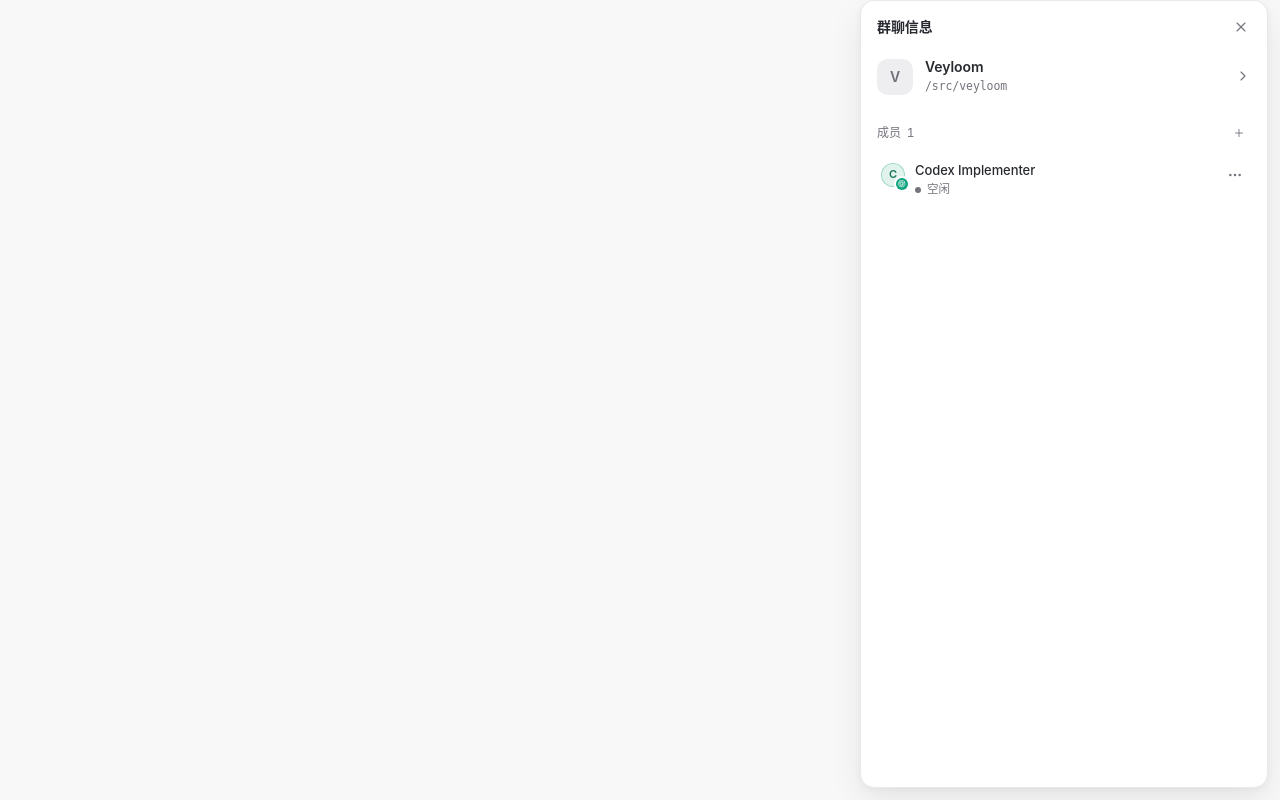
it: MembersPanel › takes a member out of the project once confirmed
What coordinates should you click on to do the following:
click the button named "更多"
I would click on:
 (1235, 175)
Its box is left=1219, top=159, right=1251, bottom=191.
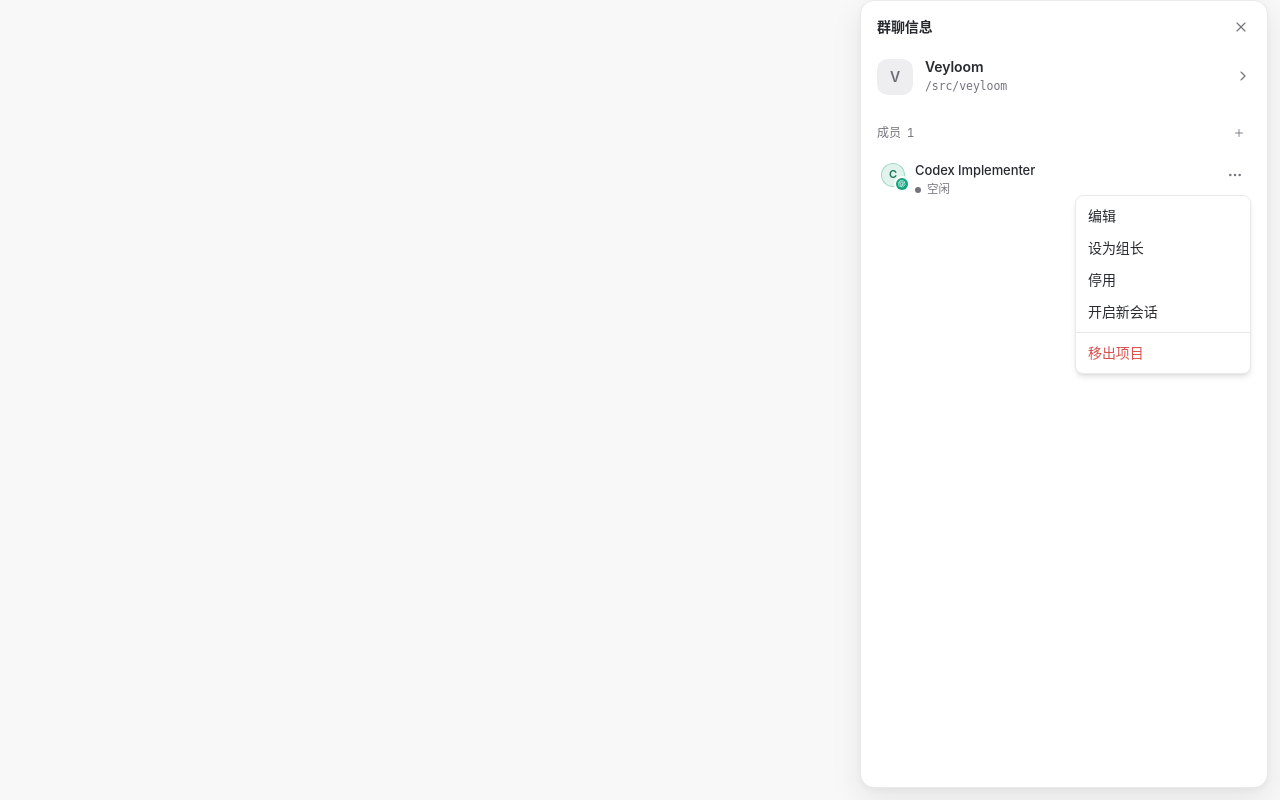
What coordinates should you click on to do the following:
click the menu item "移出项目"
I would click on:
 (1116, 352)
Its box is left=1088, top=344, right=1144, bottom=361.
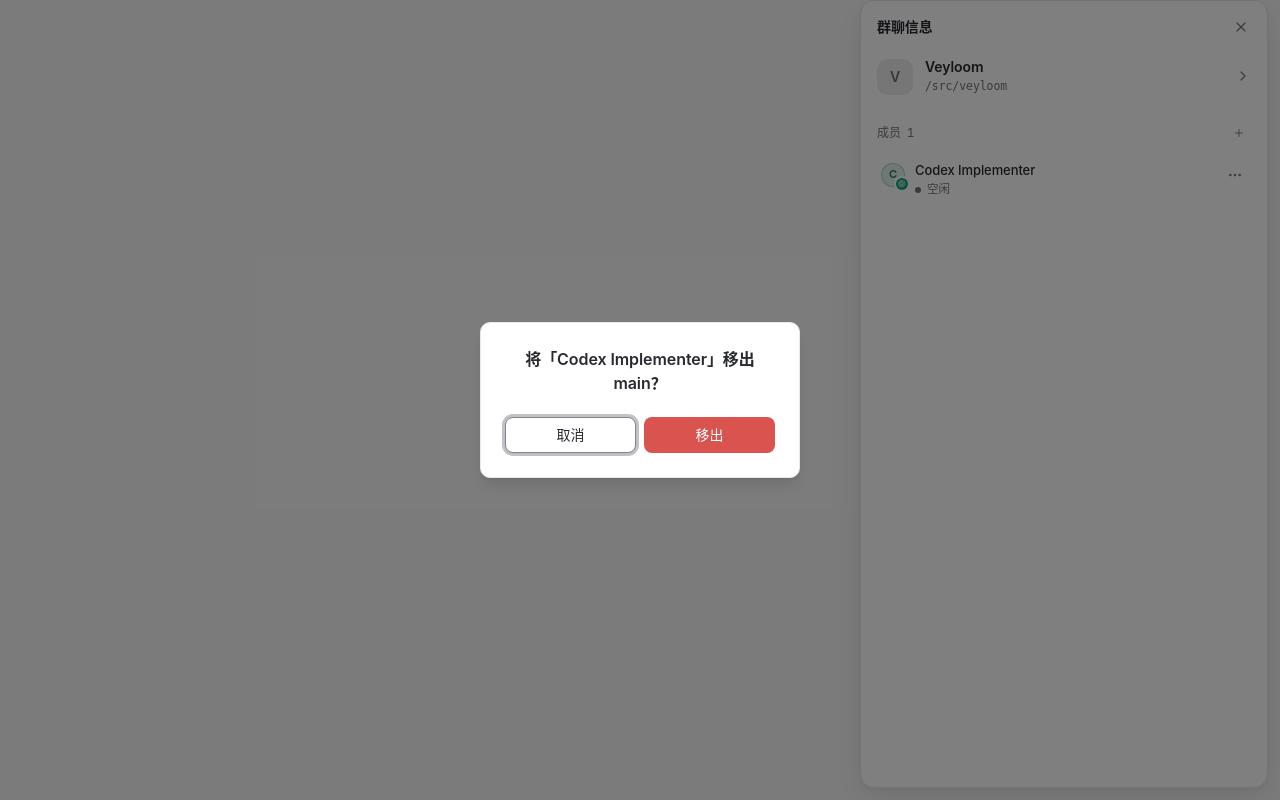
What coordinates should you click on to do the following:
click the button "移出"
I would click on:
 (710, 435)
Its box is left=644, top=417, right=775, bottom=453.
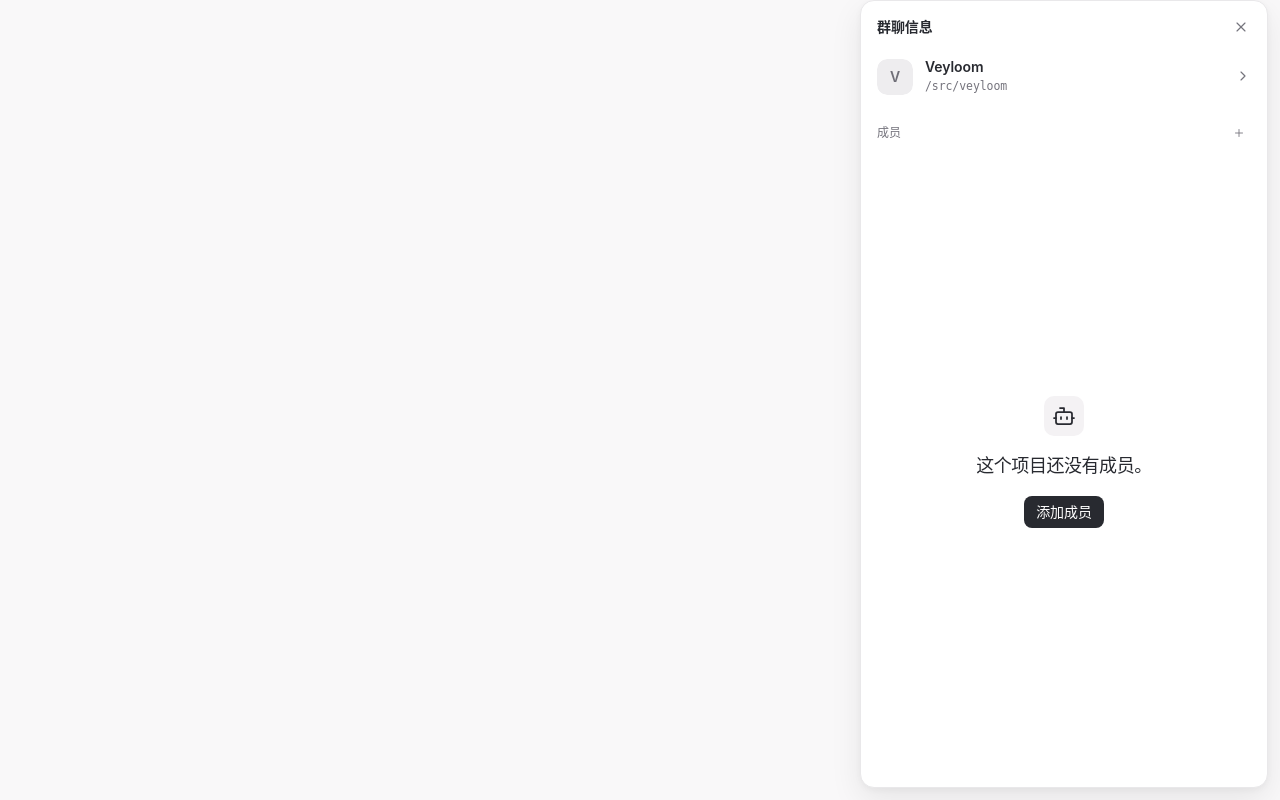
Expected: the dialog is gone
Expected: the text "这个项目还没有成员。" is shown, left=976, top=452, right=1152, bottom=480
